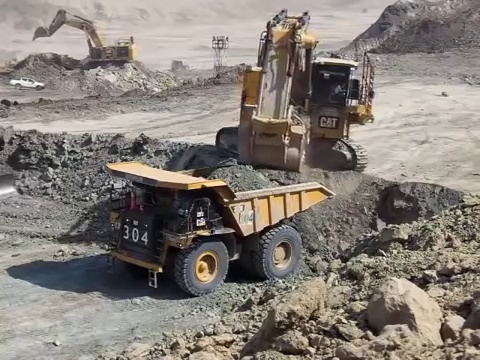car: (10, 76, 46, 90)
dumper: (103, 162, 336, 296)
excavator: (216, 9, 376, 170), (33, 10, 137, 69)
